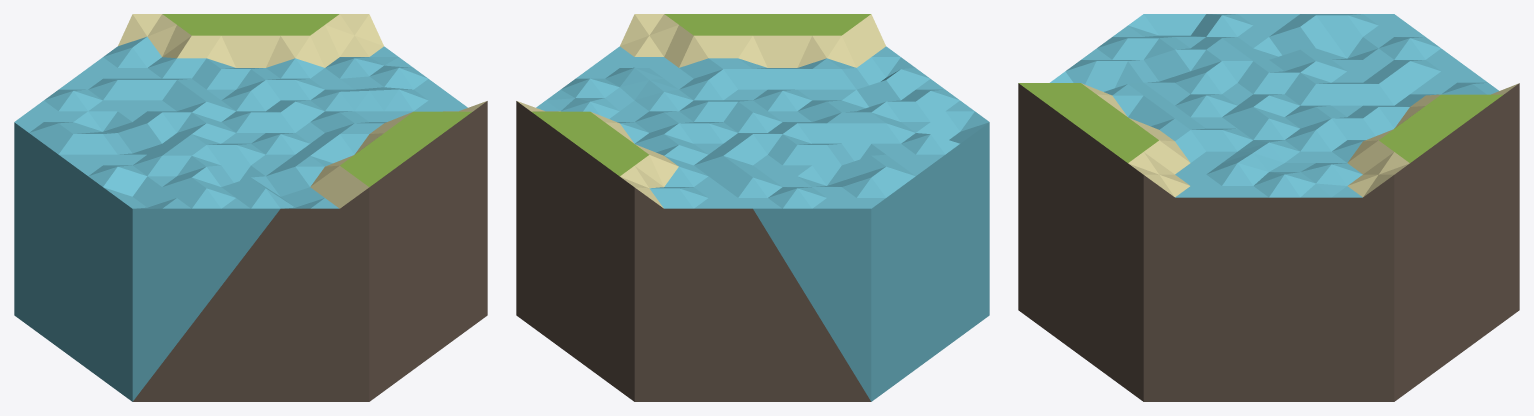
Rendered from coast6.fbx.
3 renders of one model, left to right at view 1: azimuth 30°, elevation 25°; view 2: azimuth 150°, elevation 25°; view 3: azimuth 270°, elevation 25°, orthographic. The views are drawn at different scales.
Visible parts, largest first — view 1: Cylinder; view 2: Cylinder; view 3: Cylinder.
Boxes of the visible parts, box(x1,y1,x2,y2) form: Cylinder: box(14, 14, 487, 401); Cylinder: box(516, 14, 989, 401); Cylinder: box(1018, 14, 1519, 401).
Bounding box in the file's own units: 1.73 × 1 × 2.
